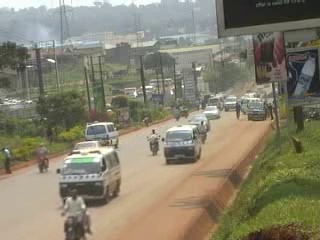Car: (69, 139, 105, 154), (187, 114, 212, 130), (201, 103, 220, 119)
Motorcycle: (60, 208, 93, 239), (145, 133, 161, 157), (36, 153, 49, 175), (196, 127, 208, 147)
